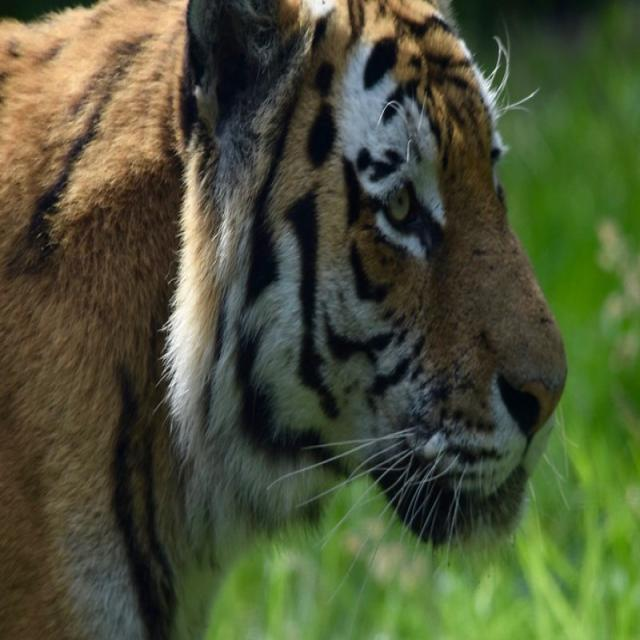Tiger: (23, 3, 586, 615)
